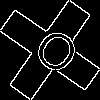O: (25, 25, 83, 85)
